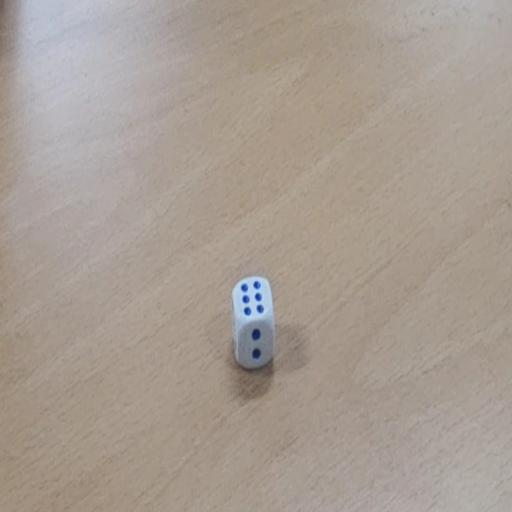dice_6: (232, 275, 276, 370)
